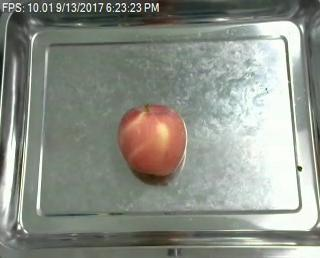apple: (117, 103, 188, 177)
